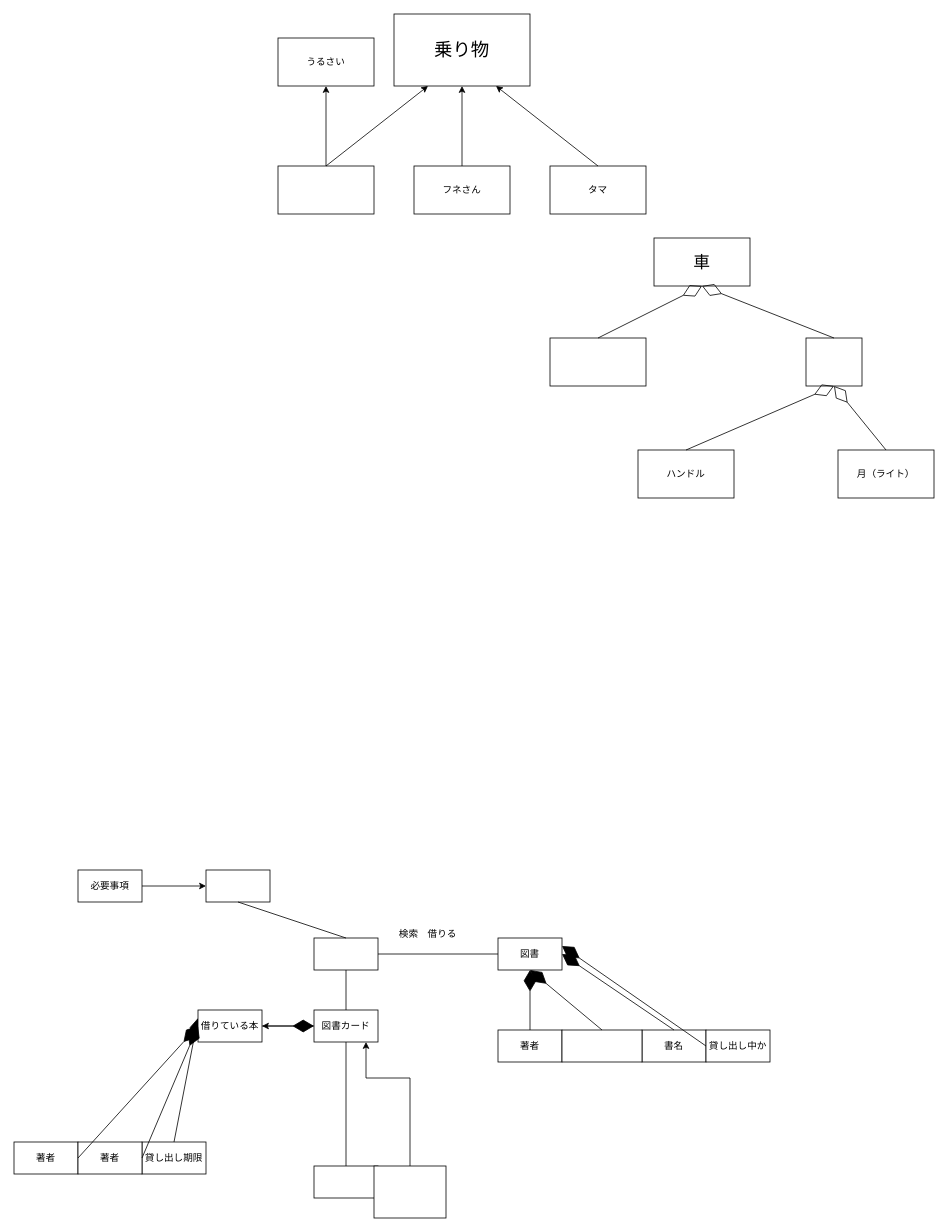
The diagram is 948 pixels wide and 1232 high, and some of its shapes have lost their labels. Each missing label, with the centre of its shape:
"ID" goes at (x=345, y=1181).
"エンジン" goes at (x=597, y=361).
"ボディ" goes at (x=833, y=361).
"何処の棚にあるか" goes at (x=601, y=1045).
"利用者" goes at (x=345, y=953).
"氏名 住所 電話番号 メールアドレス" goes at (x=409, y=1191).
"花沢" goes at (x=325, y=189).
"貸し出し予約" goes at (x=237, y=885).
